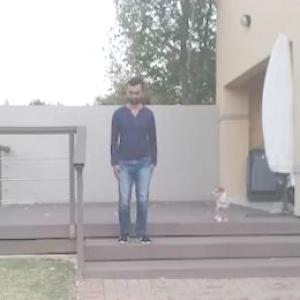follow: (108, 73, 154, 256)
